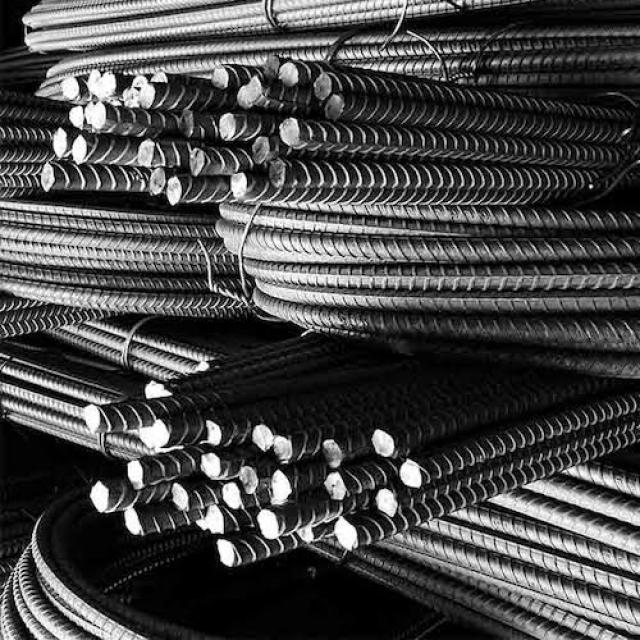Rebar: (197, 505, 229, 536), (334, 518, 362, 552), (395, 459, 423, 491), (239, 78, 266, 110), (141, 420, 169, 450), (253, 136, 279, 168), (322, 96, 350, 125), (269, 473, 294, 505), (280, 118, 303, 152), (217, 538, 242, 569), (321, 439, 344, 472), (278, 61, 304, 89), (372, 430, 396, 460), (260, 511, 284, 541), (63, 73, 83, 109), (230, 172, 252, 204), (211, 64, 235, 93), (325, 473, 348, 503), (71, 134, 91, 168), (83, 406, 107, 434), (204, 421, 228, 449), (91, 483, 112, 515), (122, 510, 146, 538), (100, 68, 121, 100), (269, 161, 291, 191), (202, 454, 226, 481), (93, 101, 111, 137), (275, 436, 298, 464), (127, 461, 147, 493), (168, 177, 188, 209), (188, 148, 208, 180), (148, 165, 167, 198), (377, 490, 399, 518), (170, 486, 192, 514), (261, 55, 283, 83), (254, 424, 274, 454), (42, 163, 62, 193), (315, 72, 335, 102), (222, 484, 245, 510), (238, 469, 260, 496), (140, 86, 162, 113), (297, 521, 320, 546), (150, 71, 172, 97), (138, 139, 157, 169), (88, 70, 108, 98), (53, 128, 70, 160), (222, 116, 242, 143), (147, 382, 174, 400), (121, 87, 139, 113), (67, 106, 83, 134), (81, 105, 95, 135), (134, 77, 146, 101)
